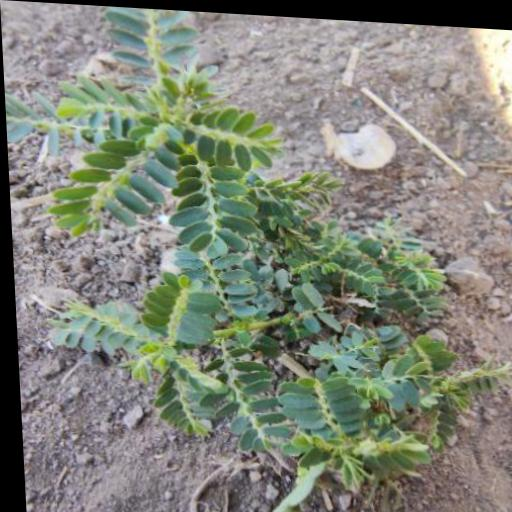weed: (69, 52, 487, 512)
